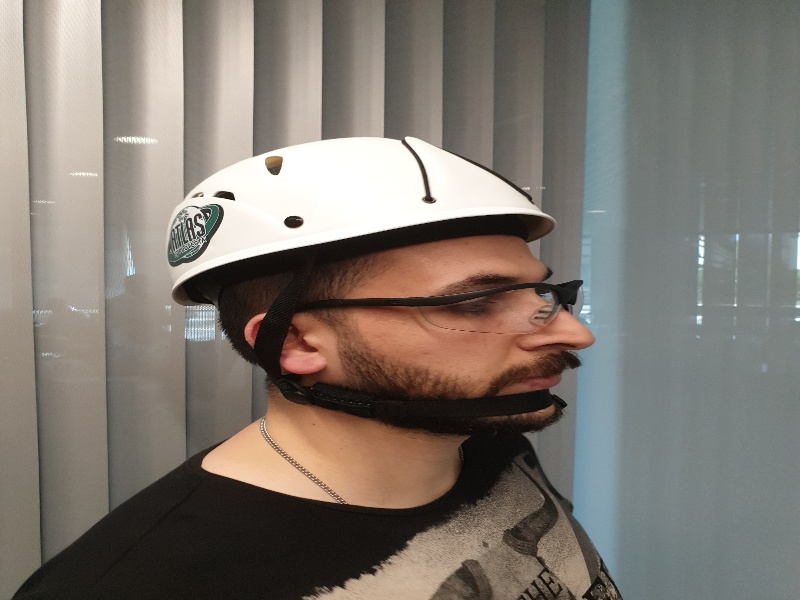Baret: (166, 137, 562, 290)
Gozluk: (312, 280, 583, 331)
